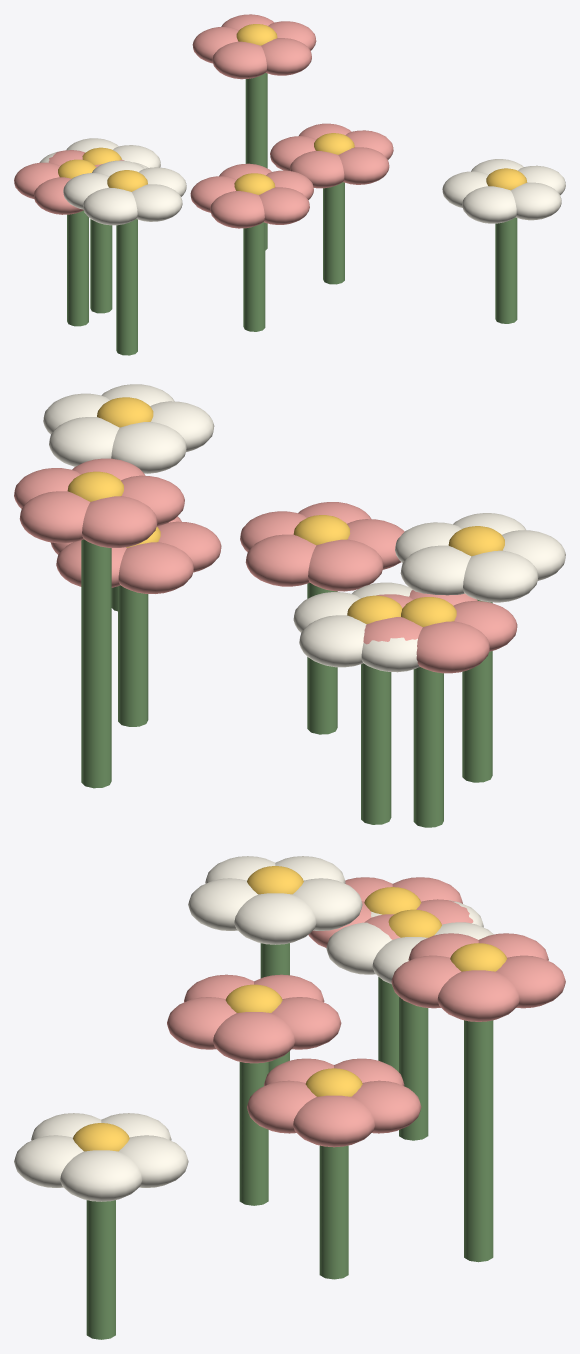
File: flowers.glb
3 views of the same model, one above another, from view 1: azimuth 30°, elevation 25°; view 2: azimuth 150°, elevation 25°; view 3: azimuth 270°, elevation 25° (orthographic). The views are drawn at different scales.
Parts seen in each view (by area): view 1: Stem.001, Stem, Stem.002, Stem.005, Stem.006, Stem.004, Stem.003, Petal.028, Petal.008, Petal.023, Petal.013, Petal.009 (+31 smaller); view 2: Stem.004, Stem, Stem.003, Stem.006, Stem.001, Petal.007, Petal.012, Petal.022, Petal.032, Petal.002, Petal.027, Petal.021 (+30 smaller); view 3: Stem.004, Stem.005, Stem.006, Stem.002, Petal.025, Petal.030, Petal.020, Petal.005, Petal.010, Stem.003, Petal.011, Petal.021 (+33 smaller).
Part boxes in pixels (left/top/right/bottom): Stem.001: left=116, top=219, right=137, bottom=355; Stem: left=67, top=210, right=88, bottom=326; Stem.002: left=243, top=222, right=265, bottom=331; Stem.005: left=495, top=217, right=517, bottom=323; Stem.006: left=323, top=182, right=344, bottom=284; Stem.004: left=245, top=73, right=267, bottom=250; Stem.003: left=90, top=219, right=112, bottom=313; Petal.028: left=462, top=186, right=516, bottom=223; Petal.008: left=83, top=187, right=137, bottom=225; Petal.023: left=212, top=41, right=266, bottom=79; Petal.013: left=210, top=191, right=264, bottom=228; Petal.009: left=132, top=184, right=182, bottom=221; Stem.004: left=81, top=539, right=111, bottom=788; Stem: left=413, top=667, right=443, bottom=827; Stem.003: left=361, top=663, right=391, bottom=824; Stem.006: left=118, top=585, right=148, bottom=726; Stem.001: left=462, top=599, right=492, bottom=782; Petal.007: left=463, top=550, right=538, bottom=602; Petal.012: left=308, top=539, right=383, bottom=591; Petal.022: left=82, top=496, right=157, bottom=547; Petal.032: left=118, top=542, right=193, bottom=593; Petal.002: left=416, top=621, right=489, bottom=673; Petal.027: left=111, top=421, right=186, bottom=473; Petal.021: left=19, top=491, right=90, bottom=543; Stem.004: left=464, top=1020, right=493, bottom=1262; Stem.005: left=86, top=1200, right=115, bottom=1339; Stem.006: left=319, top=1145, right=348, bottom=1279; Stem.002: left=239, top=1062, right=268, bottom=1205; Petal.025: left=60, top=1150, right=142, bottom=1201; Petal.030: left=293, top=1095, right=375, bottom=1147; Petal.020: left=437, top=970, right=519, bottom=1021; Petal.005: left=234, top=893, right=316, bottom=944; Petal.010: left=213, top=1012, right=295, bottom=1063; Stem.003: left=399, top=997, right=428, bottom=1140; Petal.011: left=271, top=997, right=341, bottom=1049; Petal.021: left=496, top=955, right=565, bottom=1008.
Size of the model in its own units: 0.8097 by 0.3988 by 0.6467.
